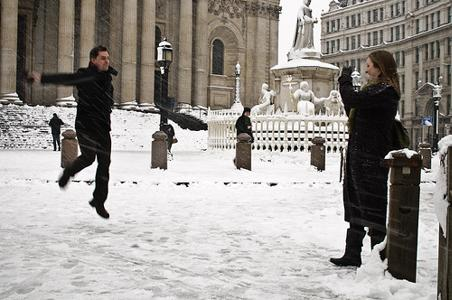person: (27, 45, 119, 220)
